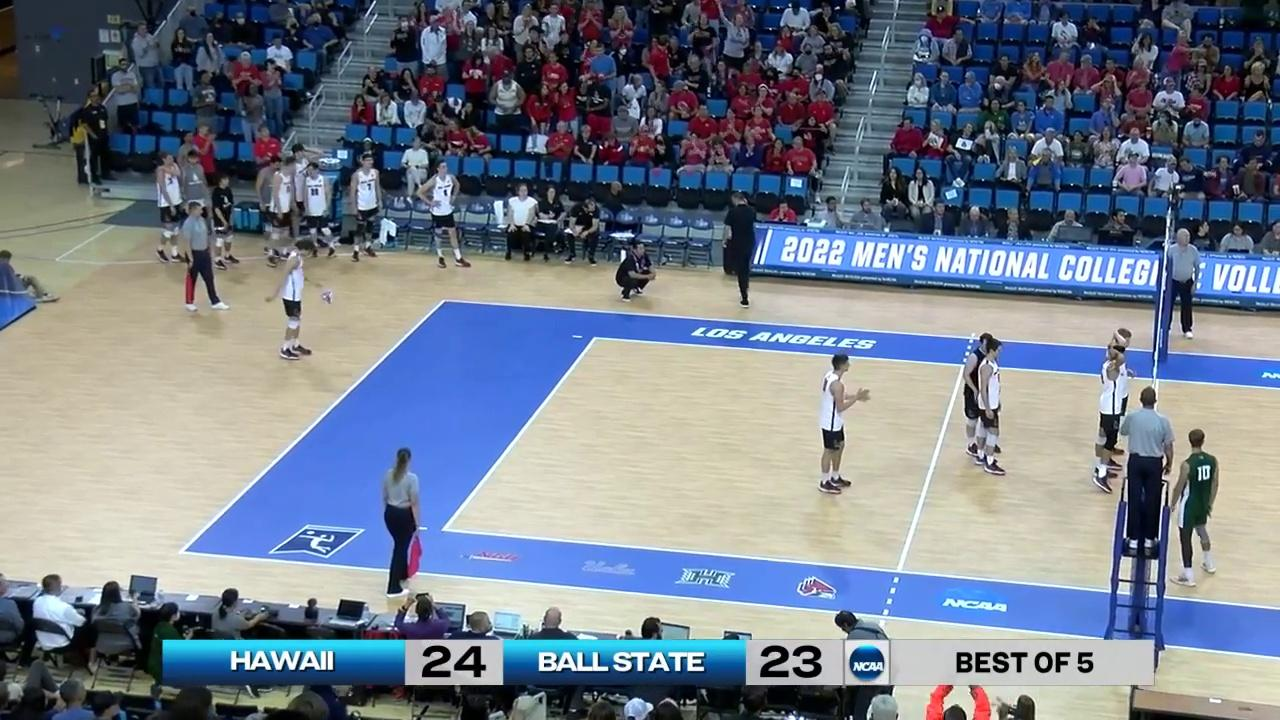player: (1165, 429, 1219, 587), (819, 356, 869, 494), (273, 242, 320, 361), (975, 341, 1010, 476), (1101, 328, 1133, 470), (964, 333, 1001, 455), (1094, 346, 1124, 494)
refree: (1124, 387, 1174, 552), (380, 449, 424, 596), (175, 198, 224, 311), (1164, 227, 1200, 341)
